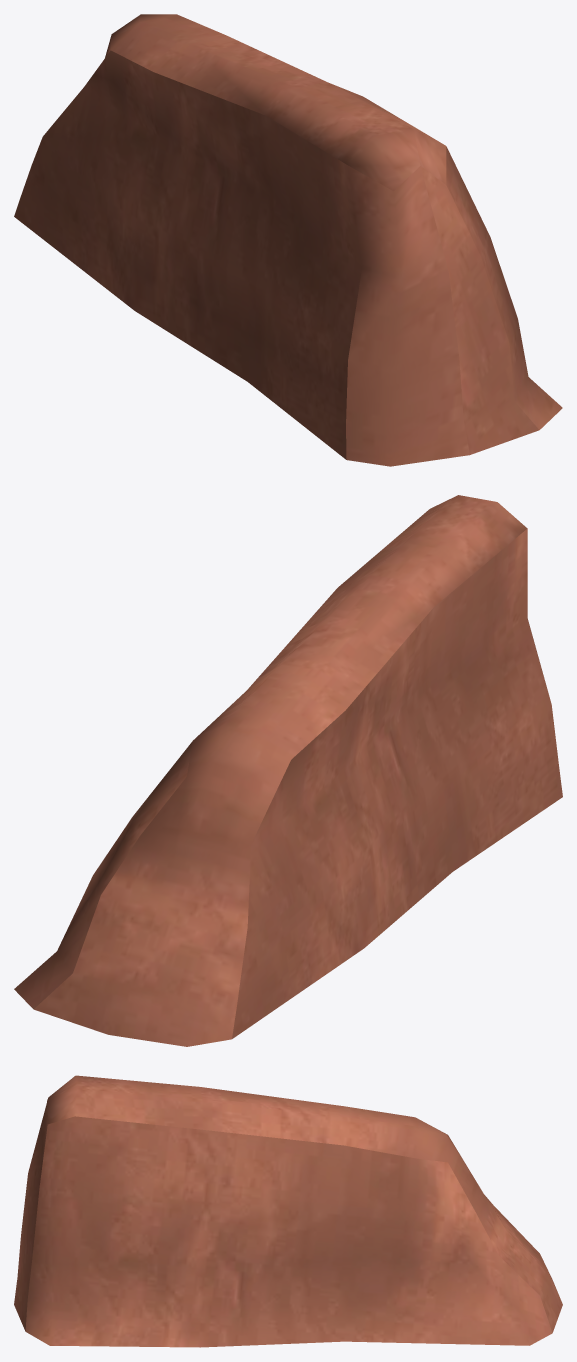
Rendered from mountain04.glb.
3 views of the same model, one above another, from view 1: azimuth 30°, elevation 25°; view 2: azimuth 150°, elevation 25°; view 3: azimuth 270°, elevation 25° (orthographic). The views are drawn at different scales.
Parts seen in each view (by area): view 1: Mountain04; view 2: Mountain04; view 3: Mountain04.
Part boxes in pixels (box(x1,y1,x2,y2)): Mountain04: box(14, 14, 562, 466); Mountain04: box(14, 495, 562, 1046); Mountain04: box(14, 1075, 562, 1347).
Bounding box in the file's own units: 1.62 × 2.03 × 4.76.
Materials: 1 (1 with a texture image).
